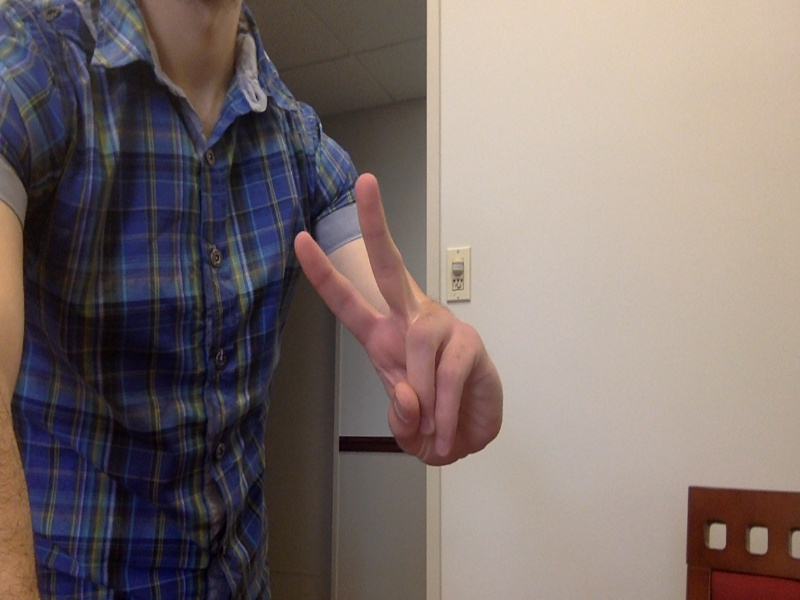2-hand: (288, 174, 515, 477)
